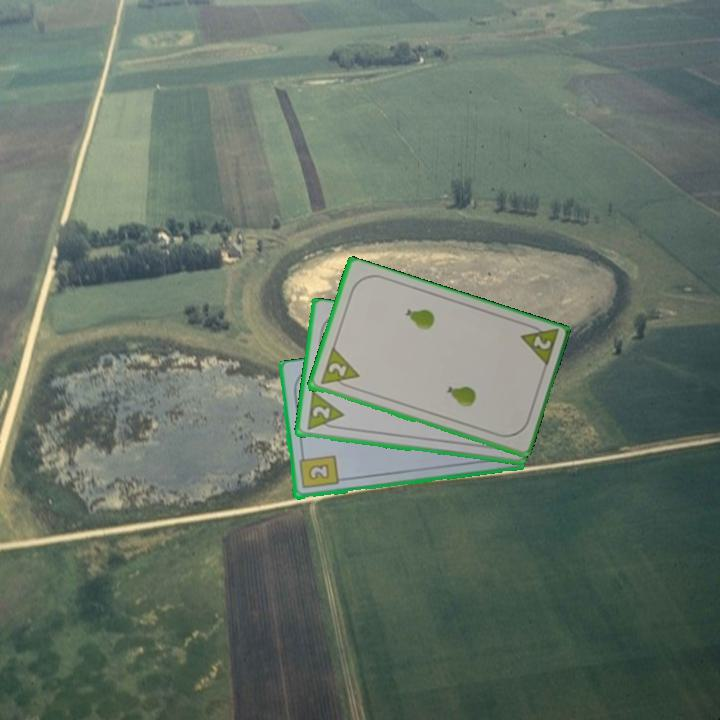2b: (295, 450, 341, 492)
2p: (516, 320, 561, 371), (316, 345, 362, 393), (303, 389, 346, 433)
